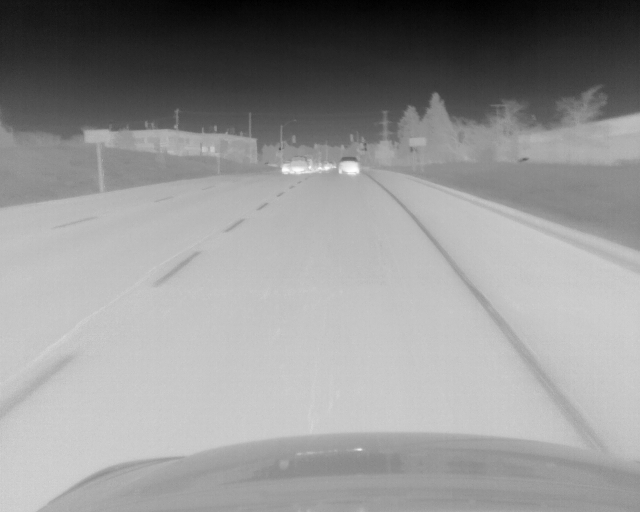car: (337, 156, 360, 175), (291, 156, 307, 174), (321, 158, 330, 172), (313, 158, 320, 174), (281, 162, 290, 174), (308, 157, 313, 174)
